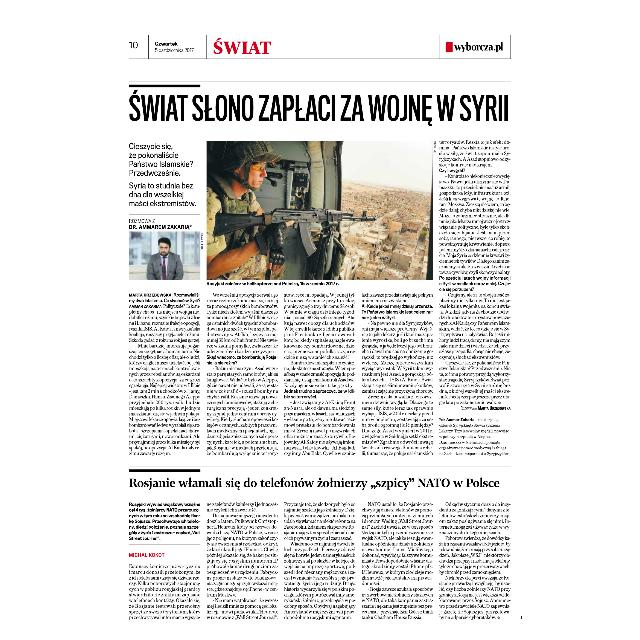article: (128, 83, 512, 459), (128, 468, 512, 622)
